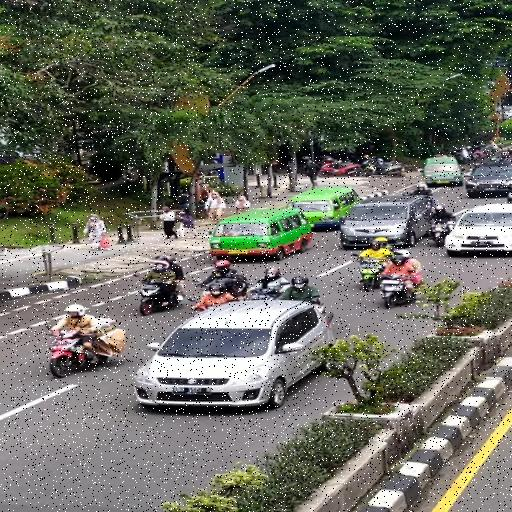Helmet: (63, 304, 90, 320), (366, 235, 388, 249), (263, 262, 278, 282), (214, 257, 232, 273), (290, 276, 308, 291), (154, 258, 168, 275), (392, 252, 408, 266)
Motor: (50, 329, 101, 376), (137, 279, 176, 312), (355, 256, 385, 294), (382, 276, 416, 308)
